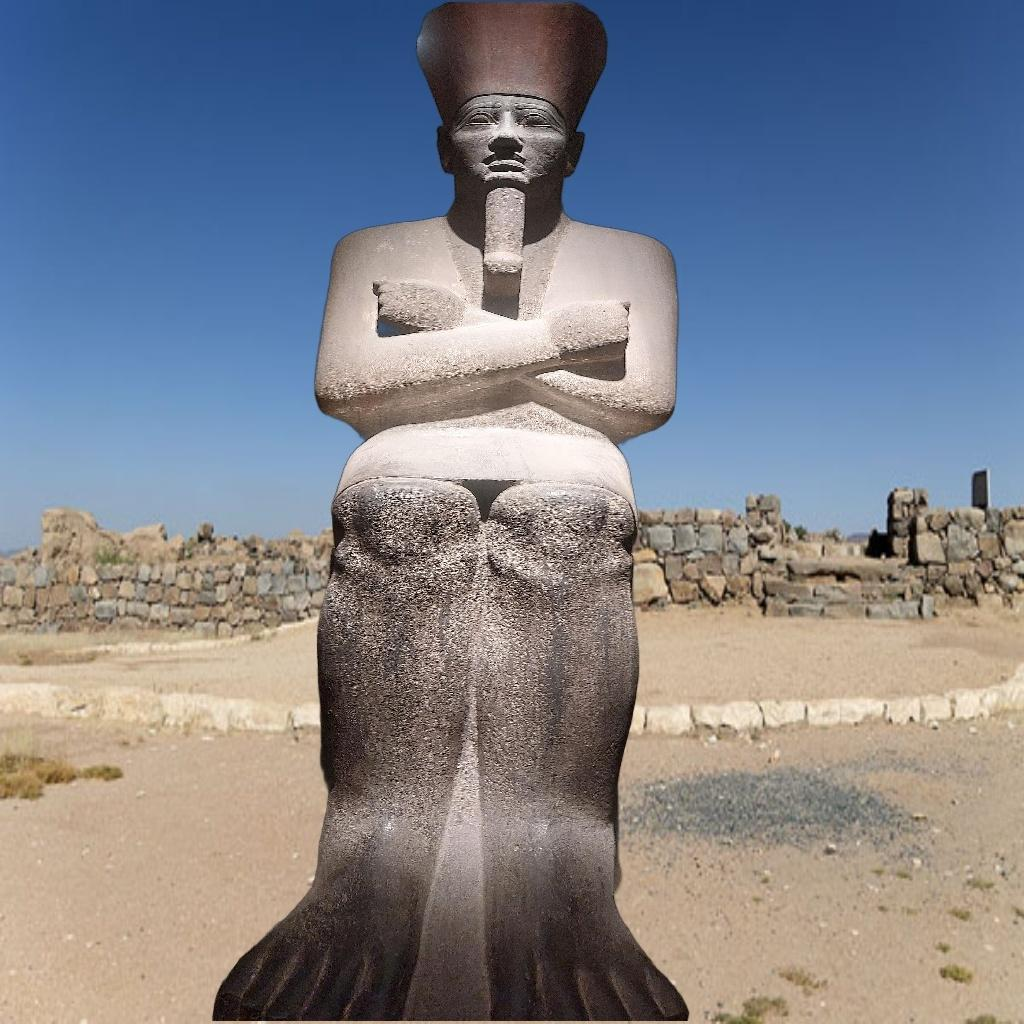Mentuhotep Nebhetpre: (174, 2, 726, 1021)
